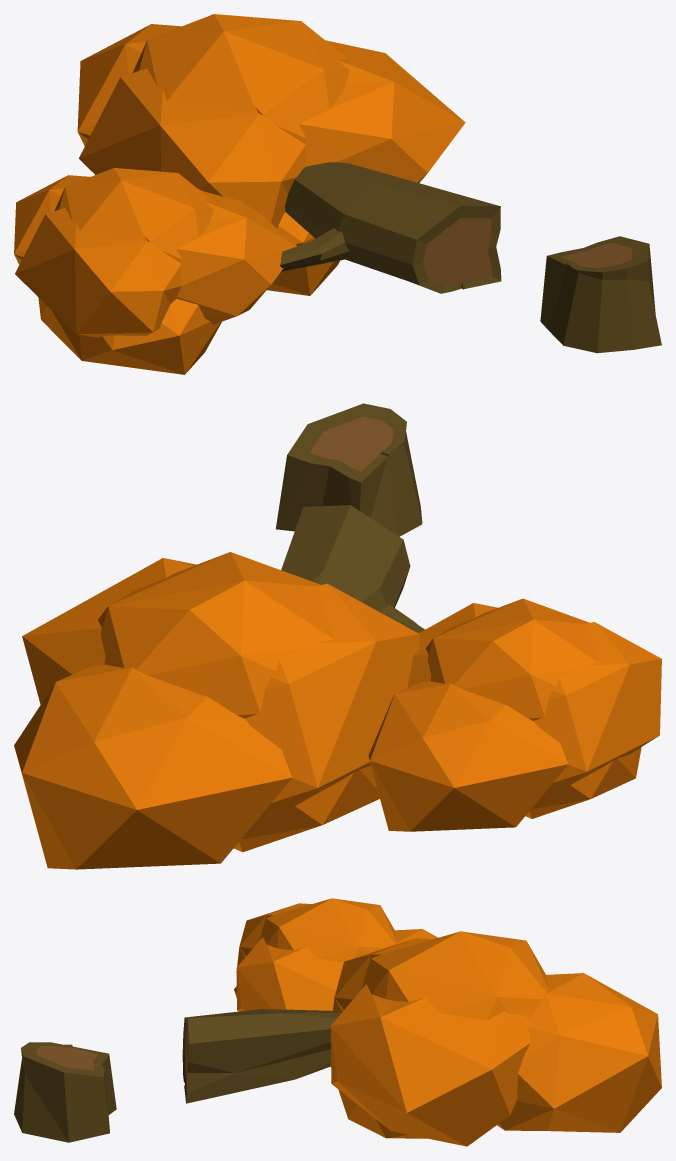
Rendered from Tree#14.fbx.
3 renders of one model, top to bottom at view 1: azimuth 30°, elevation 25°; view 2: azimuth 150°, elevation 25°; view 3: azimuth 270°, elevation 25°, orthographic. The views are drawn at different scales.
Visible parts, largest first — view 1: Tree#14; view 2: Tree#14; view 3: Tree#14.
Boxes of the visible parts, x1,y1,x2,y2 form: Tree#14: (14, 14, 661, 374); Tree#14: (14, 403, 661, 869); Tree#14: (14, 898, 661, 1146).
Size of the model in its own units: 770 by 372 by 1119.
